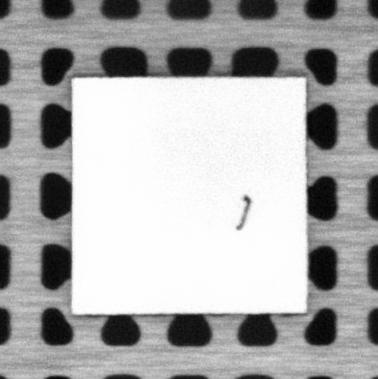DIE_INK: (235, 193, 252, 230)
